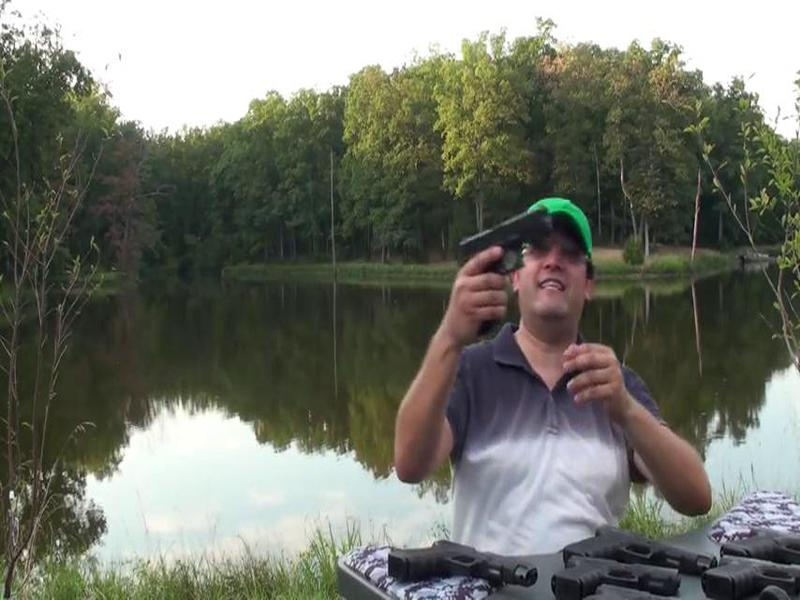Pistola: (439, 195, 571, 336)
